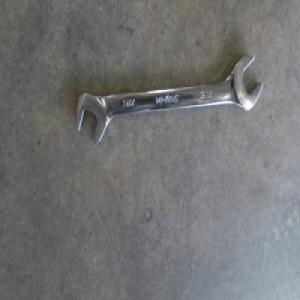Wrench: (77, 59, 259, 150)
